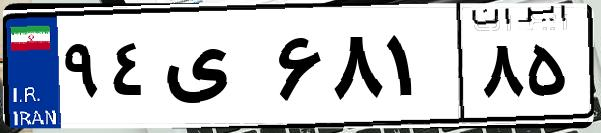1: (385, 28, 445, 110)
4: (110, 28, 158, 98)
5: (525, 38, 570, 115)
6: (270, 28, 330, 110)
8: (330, 28, 385, 110), (475, 38, 525, 113)
9: (57, 26, 110, 100)
ی: (158, 20, 270, 120)
